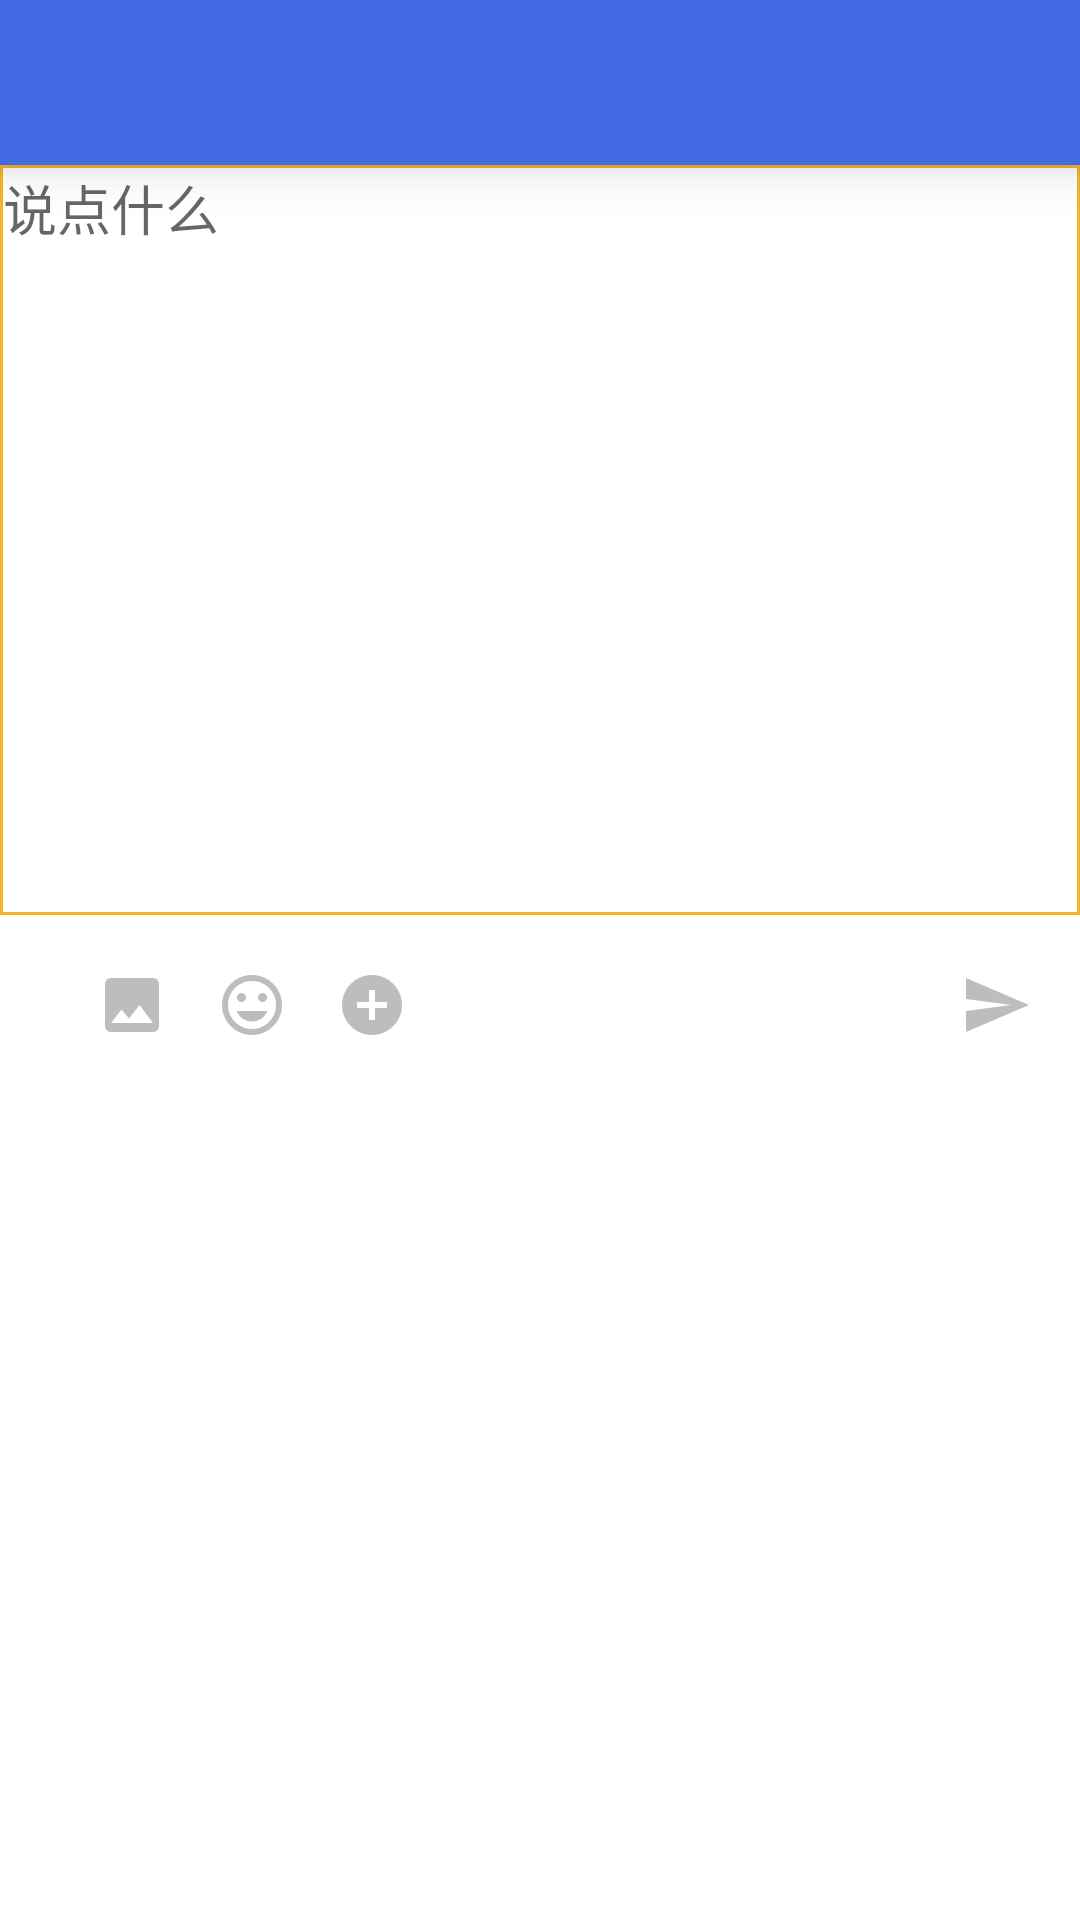

Icon click points for this 1080w x 1920h phone screenshot, format point (x, y):
add circle: point (372, 1005)
insert emoticon: point (252, 1005)
insert photo: point (132, 1005)
send: point (997, 1005)
